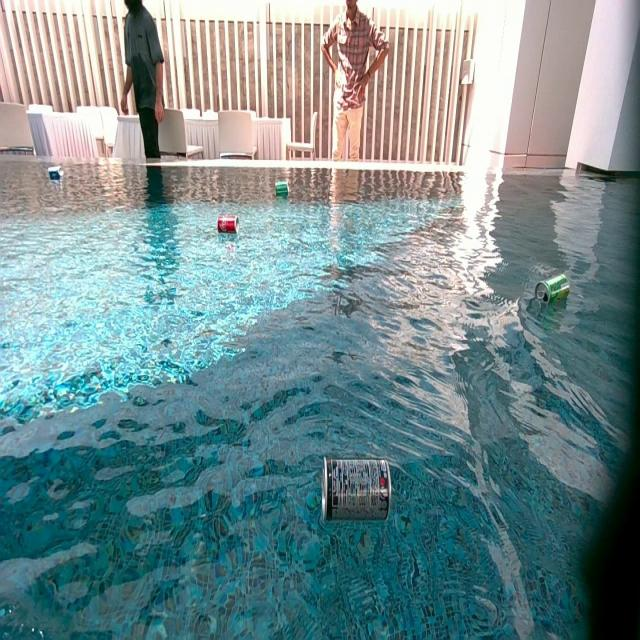Cans: (321, 458, 394, 528), (538, 274, 571, 308), (216, 216, 238, 234), (275, 181, 289, 196), (48, 168, 64, 180)
